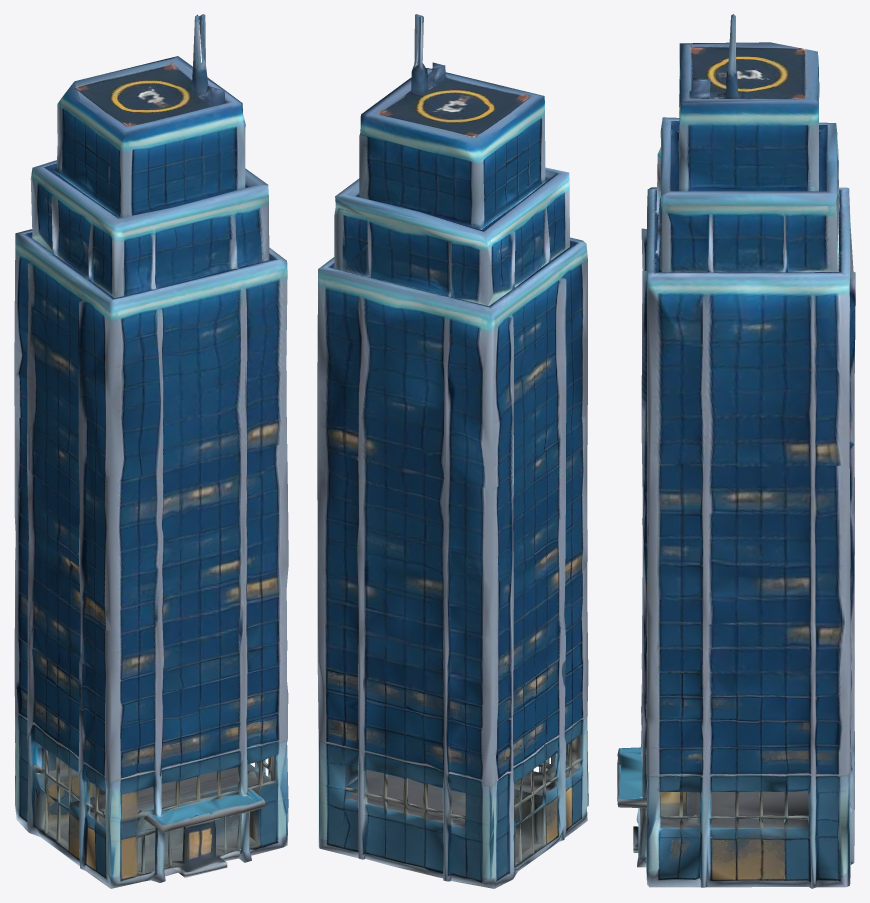
File: city-glass-tower.glb
3 views of the same model, side by side, from view 1: azimuth 30°, elevation 25°; view 2: azimuth 150°, elevation 25°; view 3: azimuth 270°, elevation 25° (orthographic). The views are drawn at different scales.
Parts seen in each view (by area): view 1: city-glass-tower; view 2: city-glass-tower; view 3: city-glass-tower.
Boxes of the visible parts, <box> form: city-glass-tower: <box>14,14,288,888</box>; city-glass-tower: <box>317,14,588,888</box>; city-glass-tower: <box>617,14,855,888</box>.
Bounding box in the file's own units: 10.61 × 44 × 11.22.
Materials: 1 (1 with a texture image).
